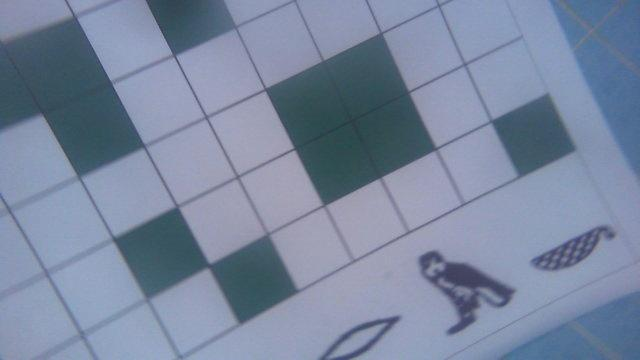Basket: (528, 225, 615, 274)
Mouth: (316, 309, 403, 360)
Owl: (414, 247, 519, 335)
